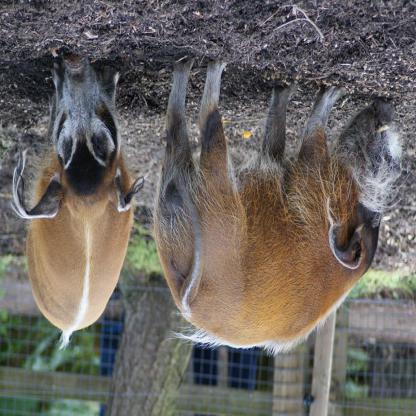boar: (143, 48, 412, 352), (9, 47, 146, 352)
